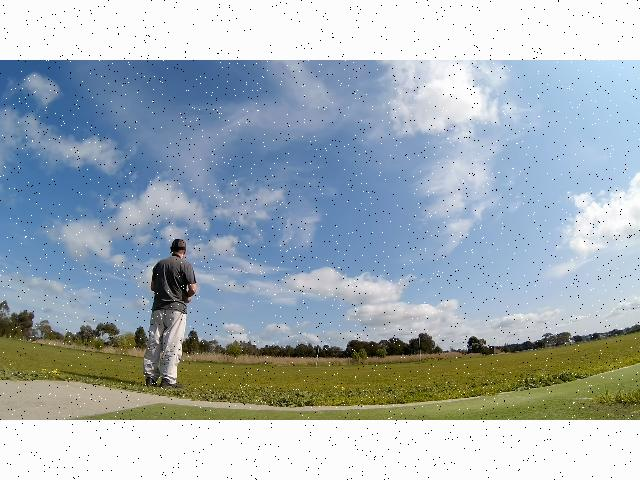Anti-Drone: (234, 268, 250, 274)
